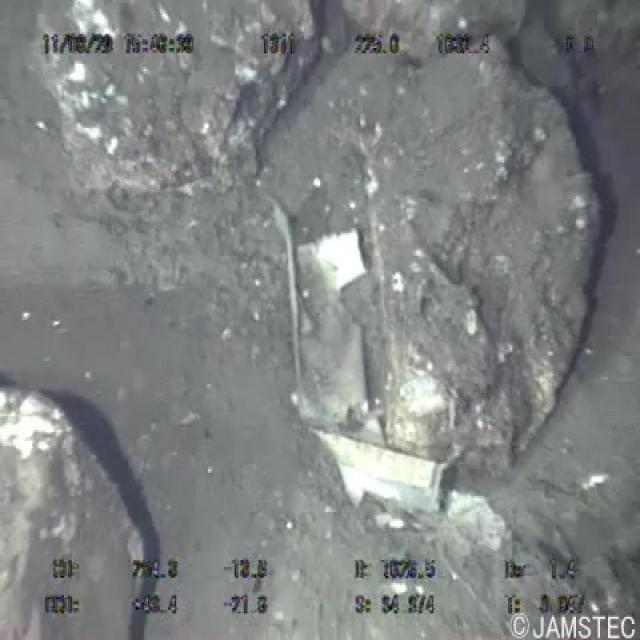plastic: (260, 196, 453, 524)
